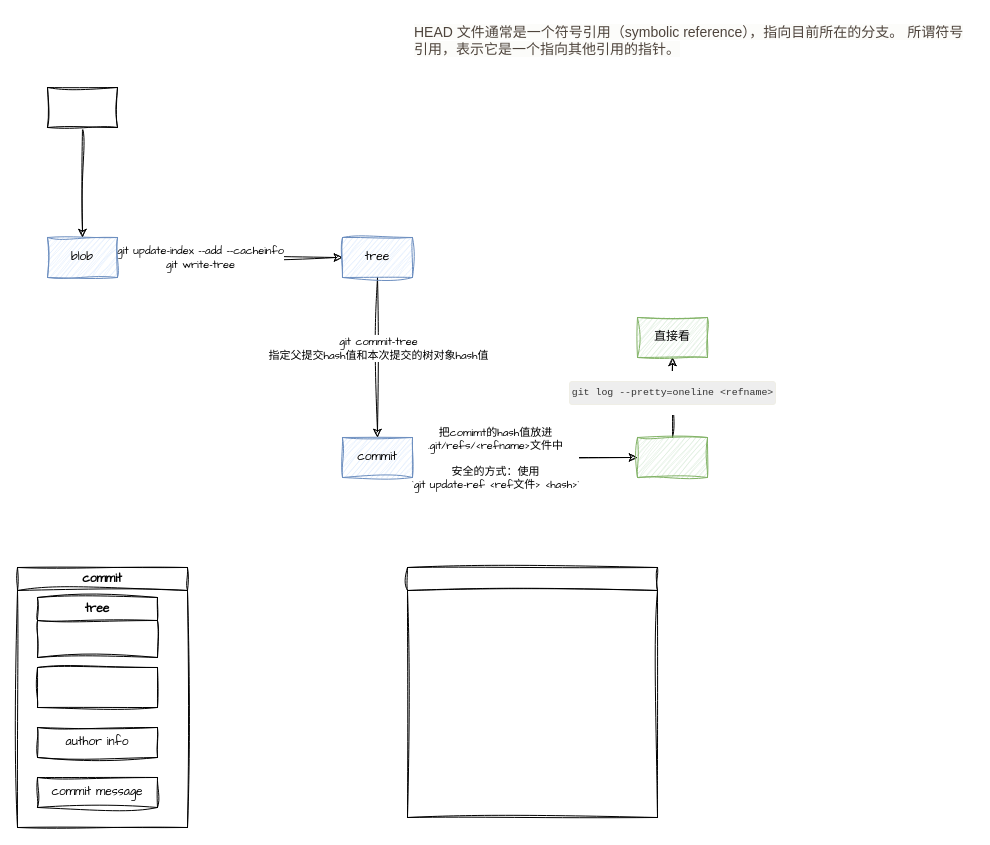
The diagram is 990 pixels wide and 845 high, and some of its shapes have lost their labels. The centre of each missing label's shape, as x and y in pixels:
father commit: the point at 532,692
father commit （hash）: the point at 97,687
ref: the point at 672,457
unix文件: the point at 82,107
